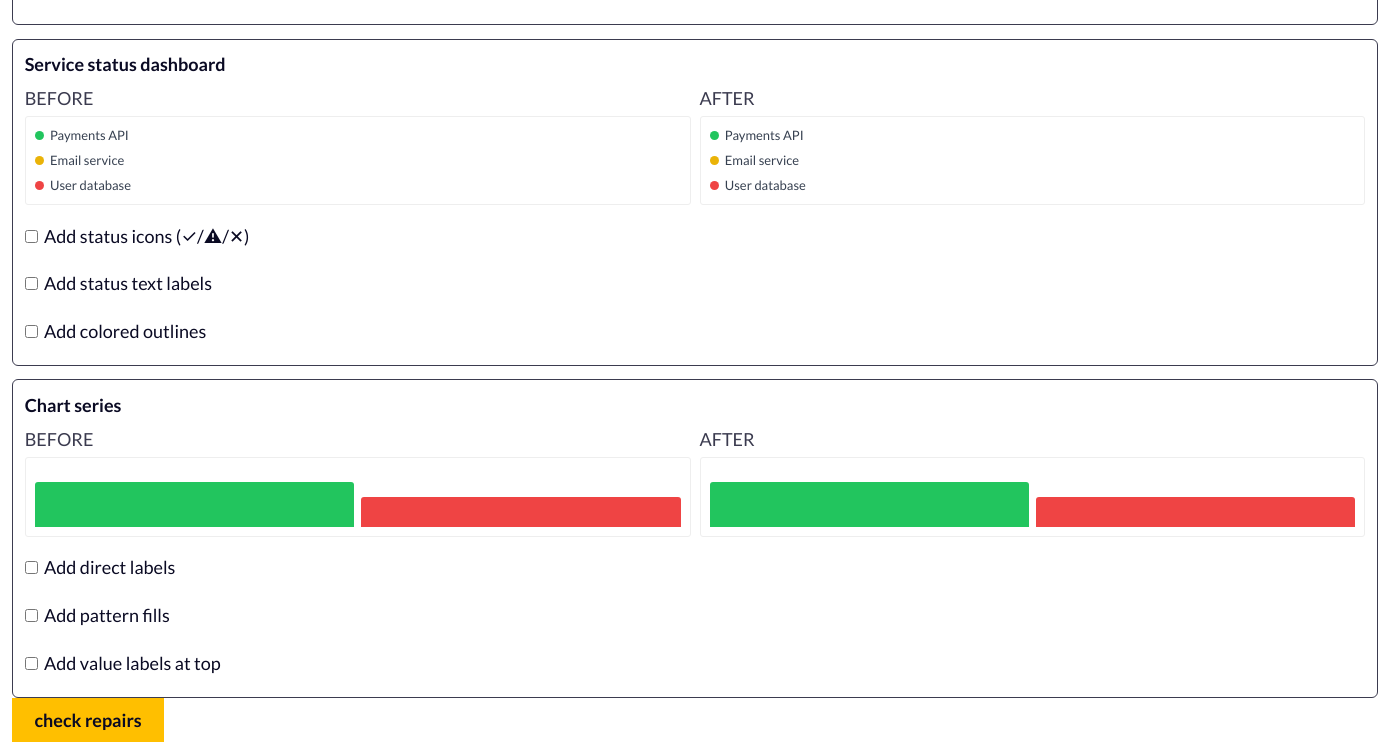
it: PatternRepairTool › repairs chart series with Add direct labels
(page scrolled)
Click the checkbox labelled "Add direct labels": (31, 568) [25,562,38,574]
(page scrolled)
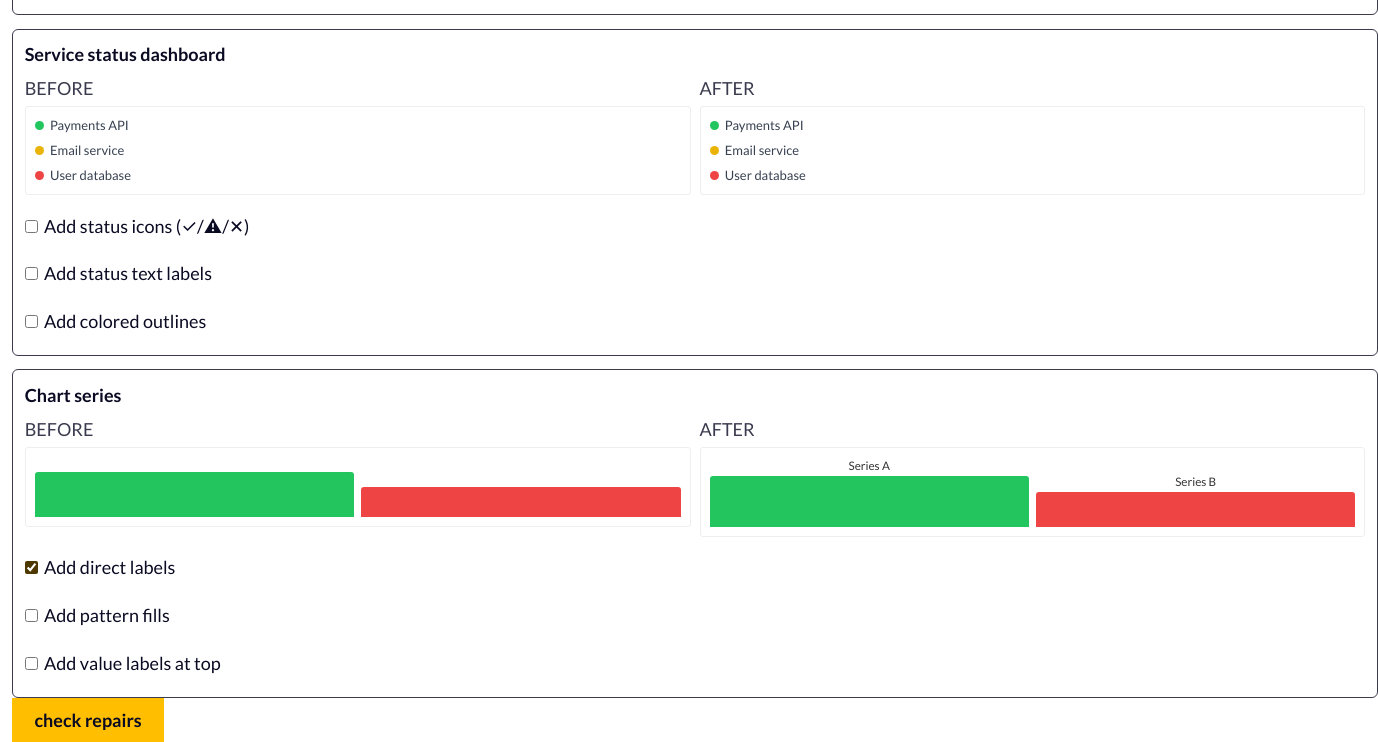
Click the button "check repairs": (88, 720) [12,698,164,741]
(page scrolled)
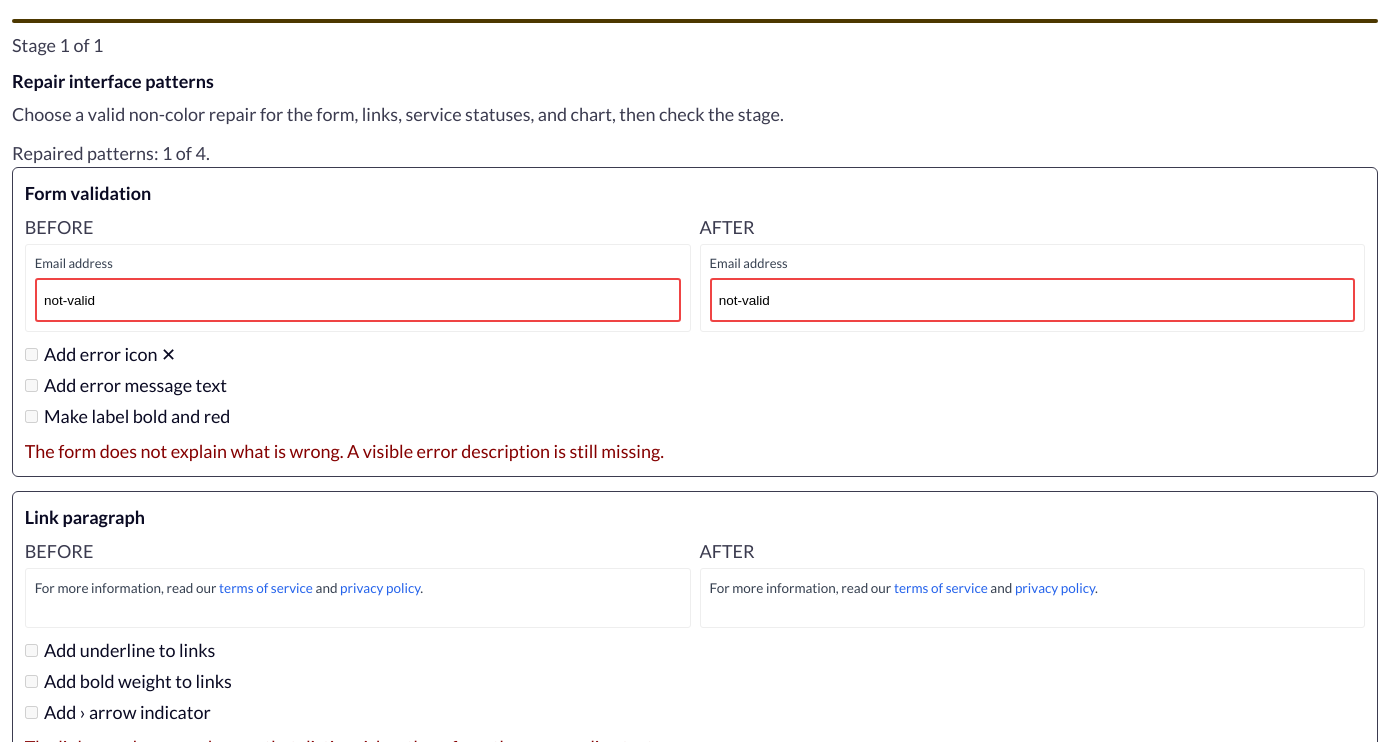
Result: the text "Repaired patterns: 1 of 4." is shown at [12,142,210,164]
